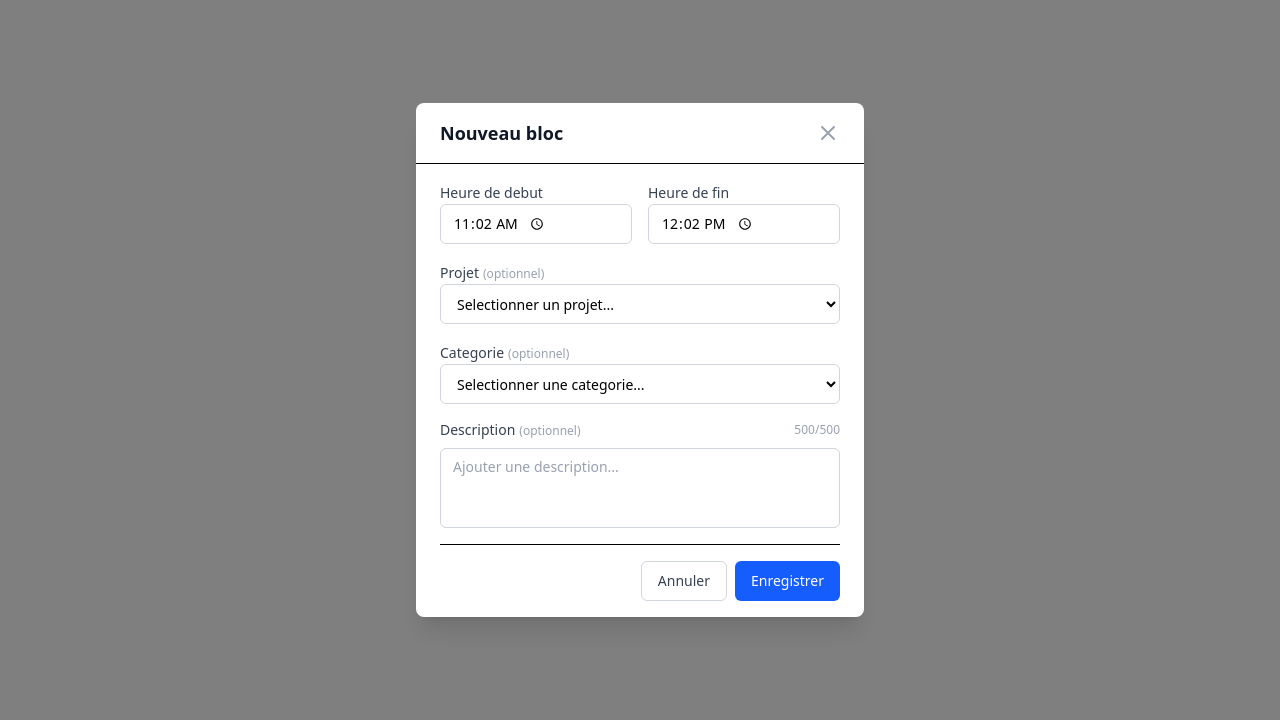
it: BlockModal › Validation › shows error when end time is before start time
The width and height of the screenshot is (1280, 720).
Replace the text in the time field labelled "Heure de debut" with "10:00" at (536, 224), box [440,204,632,244]
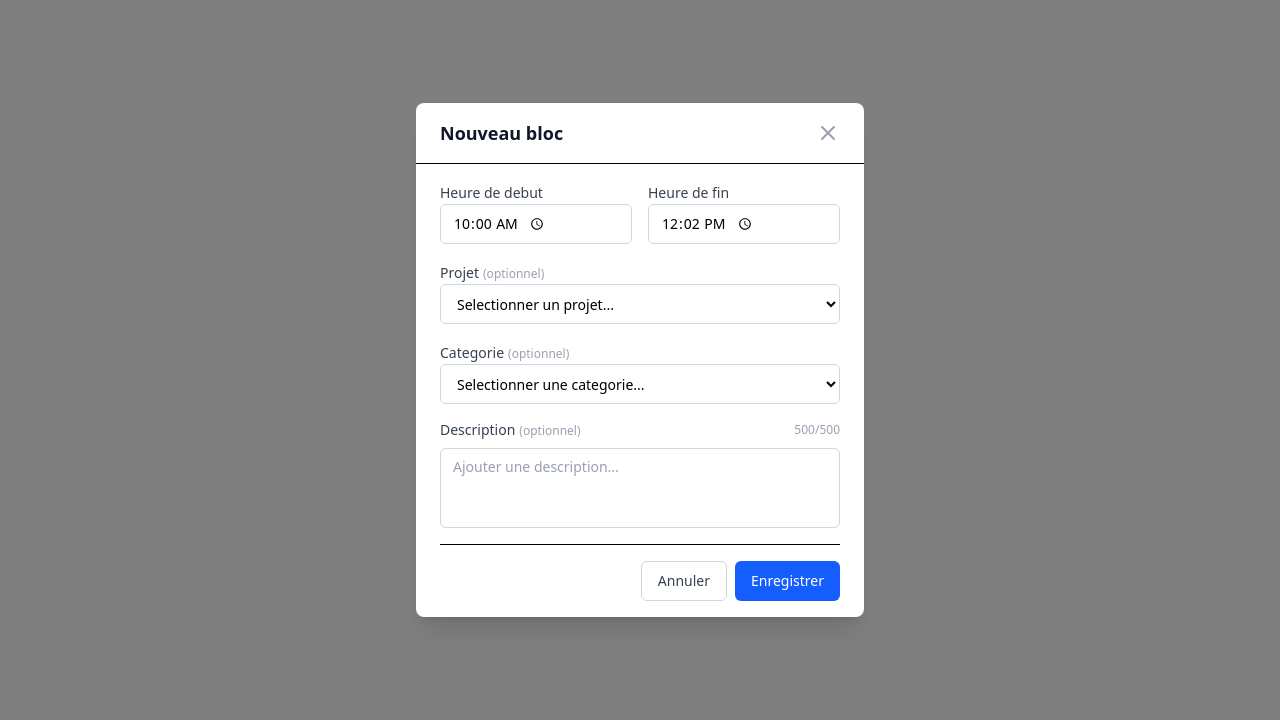
Replace the text in the time field labelled "Heure de fin" with "09:00" at (744, 224), box [648,204,840,244]
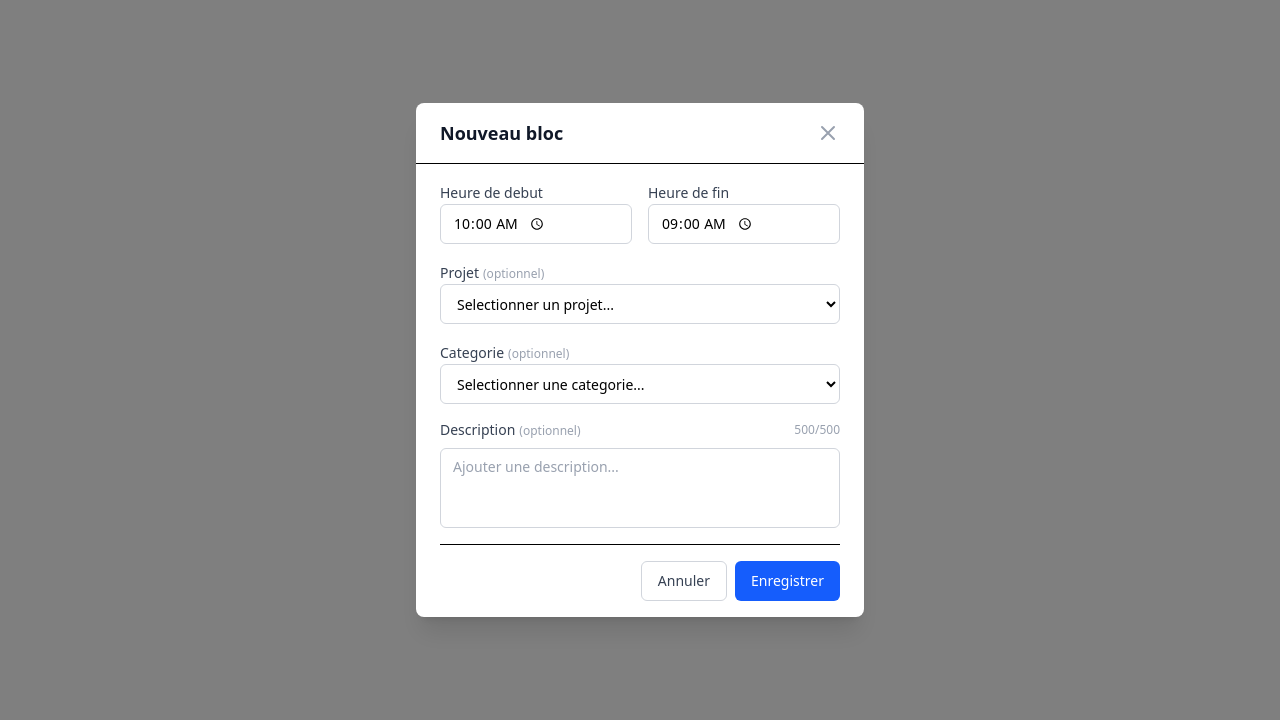
Click the button "Enregistrer".
click(788, 581)  # box [735,561,840,601]
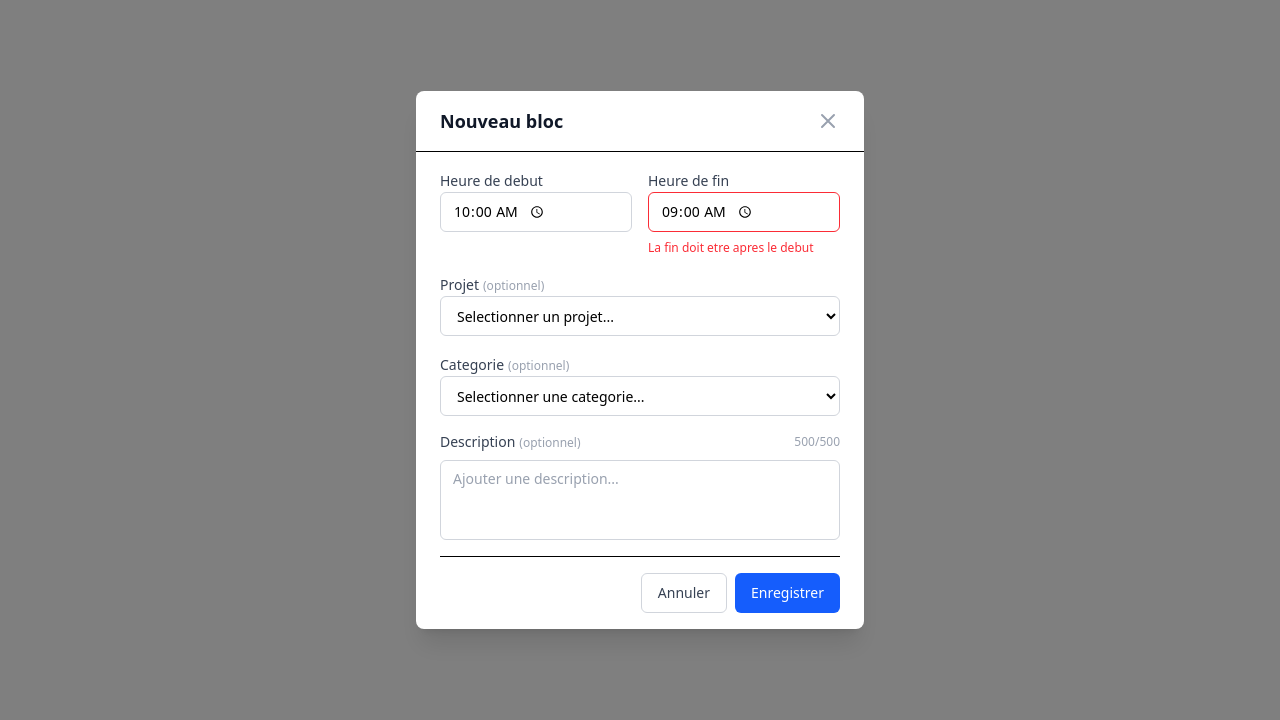
expect the text "La fin doit etre apres le debut" is shown: met, box [648,240,840,256]
